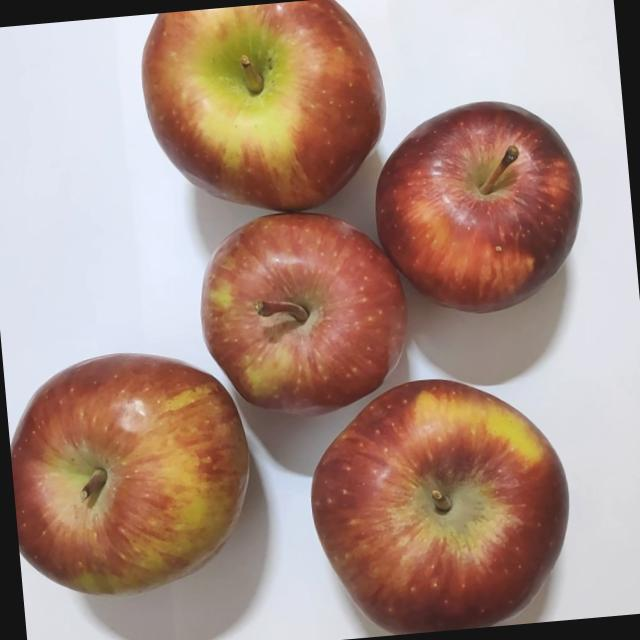apple: (296, 366, 585, 640), (2, 339, 272, 617), (129, 0, 405, 237), (361, 89, 600, 337), (183, 198, 427, 440)
